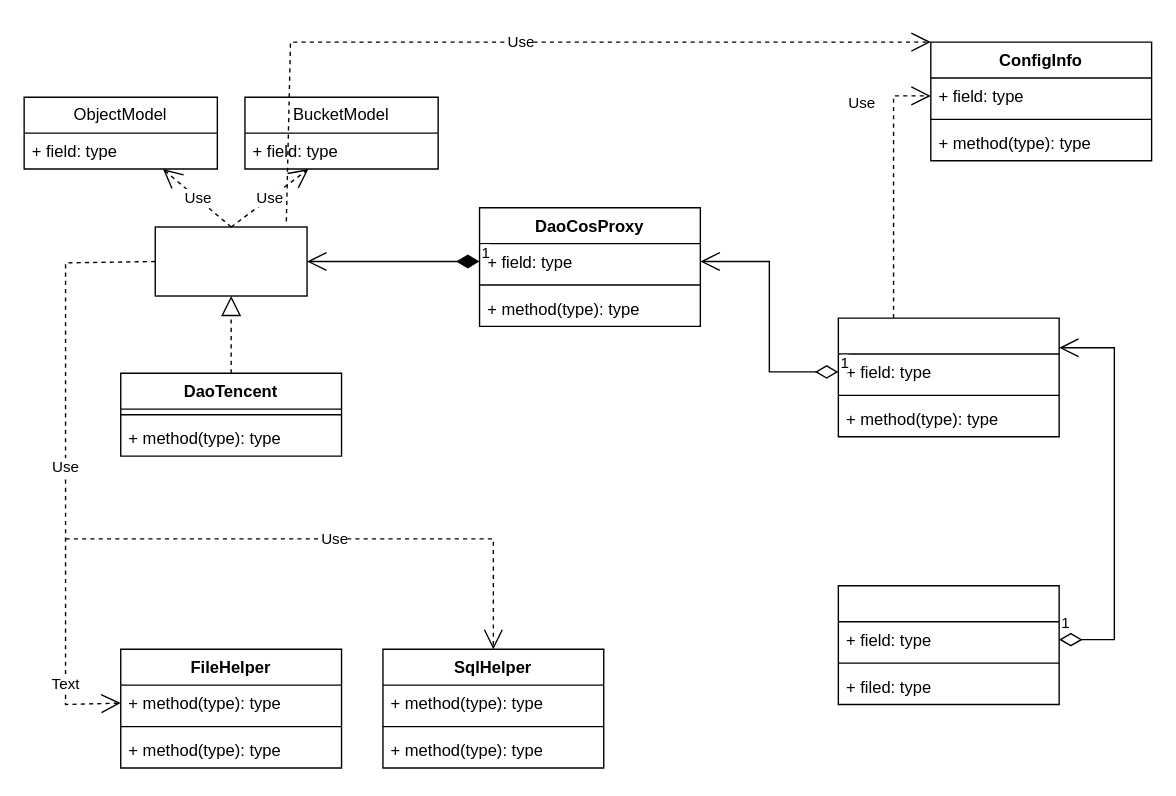
This 1176x796 diagram has some shape labels left out. Here are the shapes that lost their labels. From the top down, the box of each, then its label:
(154, 226, 307, 296): «interface» DaoCos
(837, 317, 1059, 437): ManPlugins
(837, 584, 1059, 704): SingletonManager
